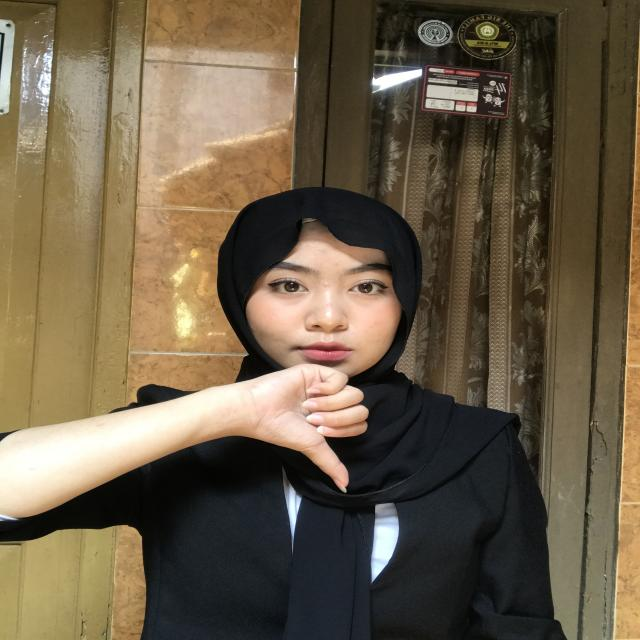sedih: (193, 340, 397, 510)
